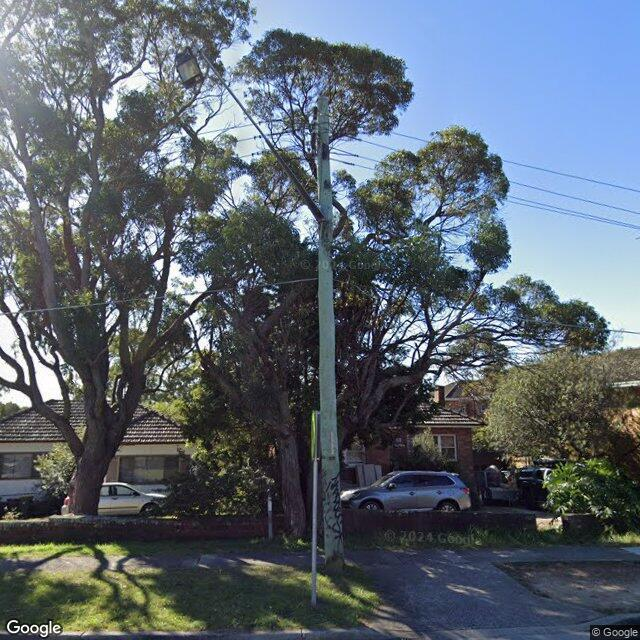crossarm: (310, 105, 318, 152)
streetlight: (174, 40, 324, 222)
timber-pole: (317, 96, 343, 574)
